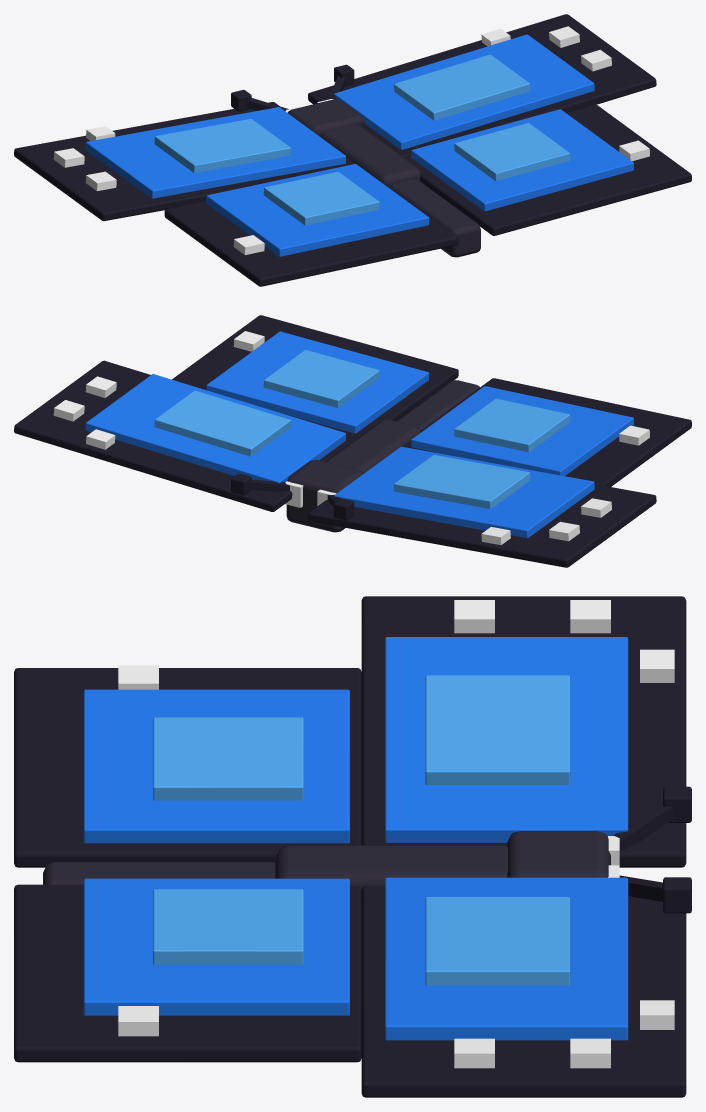
Rendered from butterflyB.glb.
The picture shows the model from 3 angles, top to bottom: view 1: azimuth 30°, elevation 25°; view 2: azimuth 150°, elevation 25°; view 3: azimuth 270°, elevation 25°; orthographic projection. The views are drawn at different scales.
Visible parts, largest first — view 1: Butterfly.1; view 2: Butterfly.1; view 3: Butterfly.1.
Part boxes in pixels (x1=…): Butterfly.1: x1=14, y1=14, x2=691, y2=286; Butterfly.1: x1=14, y1=315, x2=691, y2=567; Butterfly.1: x1=14, y1=596, x2=691, y2=1097.
Bounding box in the file's own units: 210 × 22.22 × 123.
Materials: 1 (1 with a texture image).
